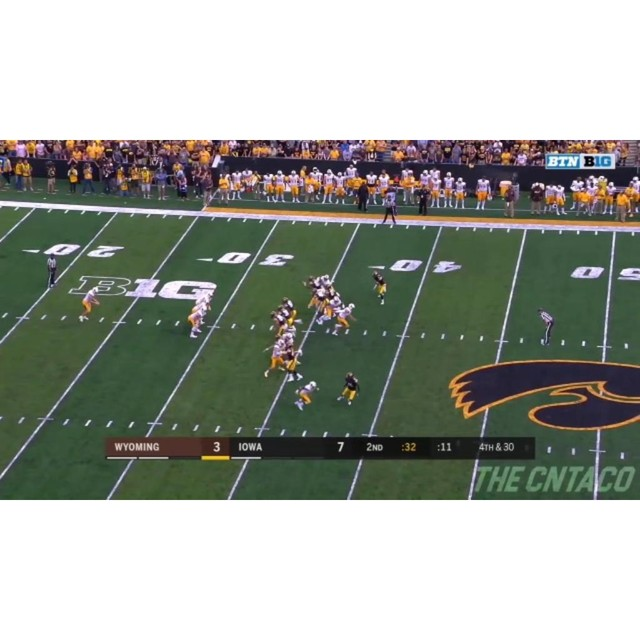american-football-player: (264, 337, 287, 379), (329, 302, 357, 336), (318, 291, 343, 325), (282, 343, 303, 382), (79, 285, 101, 322), (338, 372, 360, 406), (294, 380, 318, 411), (187, 305, 207, 339), (280, 295, 300, 325), (193, 290, 214, 316), (372, 271, 387, 305), (269, 308, 287, 336)
referee: (538, 308, 555, 346), (46, 254, 58, 287)
